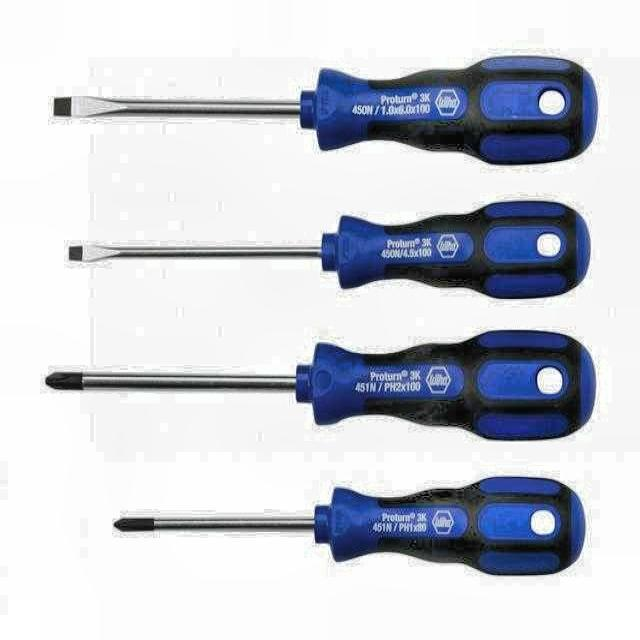screwdriver: (44, 328, 598, 444), (51, 56, 600, 166), (66, 200, 592, 300), (112, 474, 586, 578)
